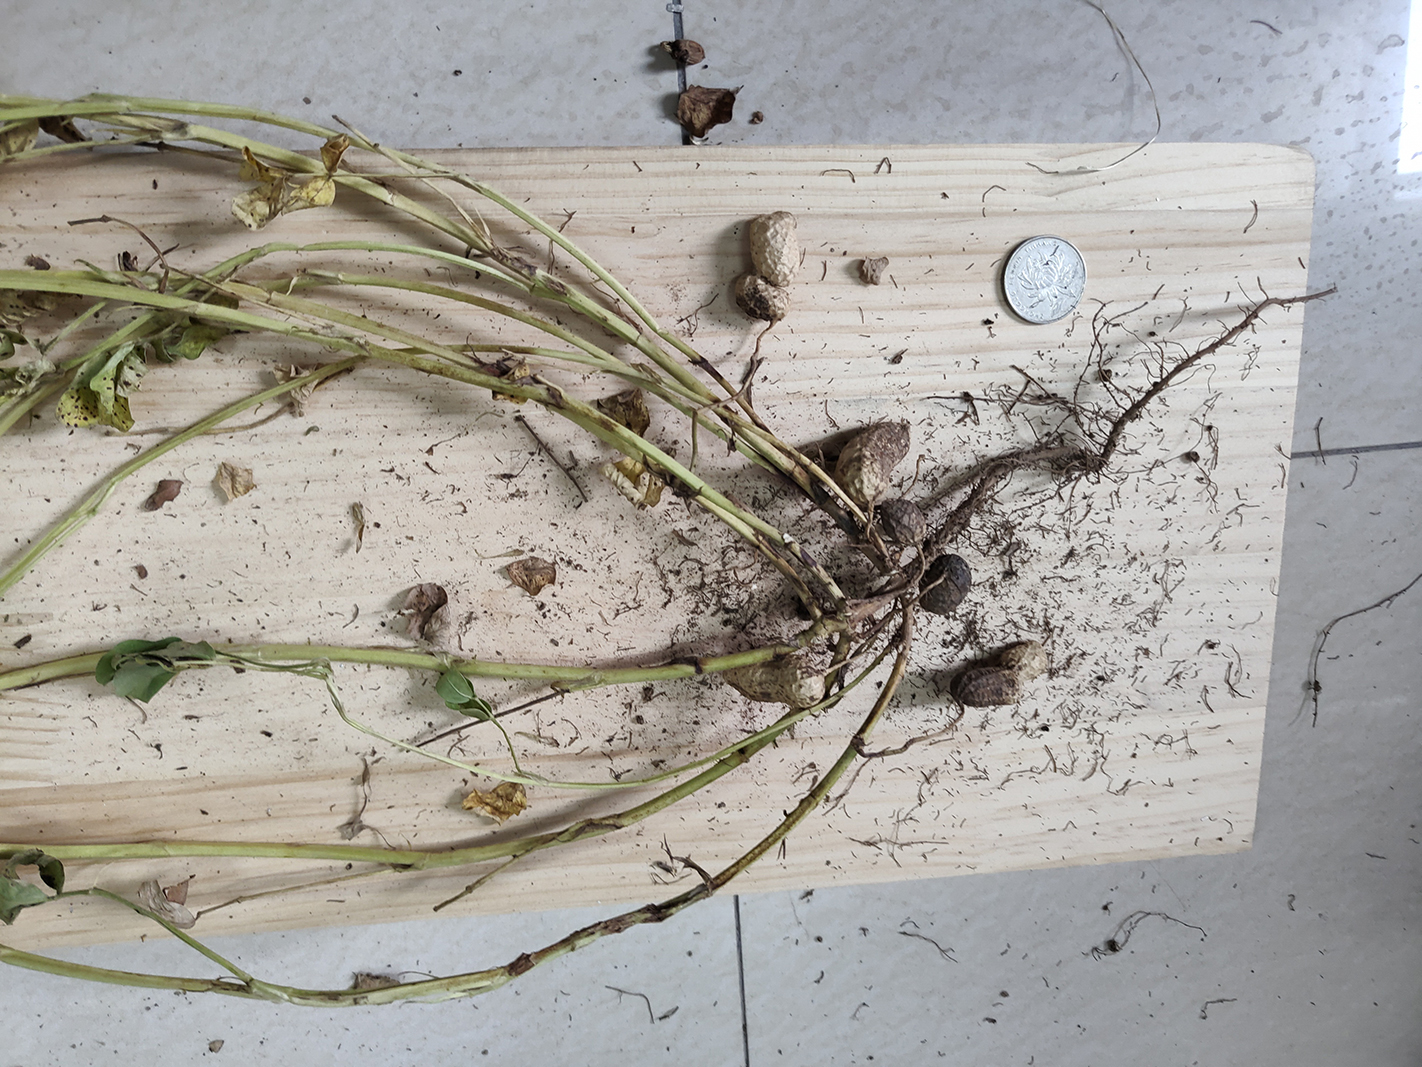h: (736, 210, 798, 322), (723, 664, 824, 707)
l: (951, 646, 1045, 709), (835, 423, 910, 501), (919, 555, 972, 618), (884, 503, 927, 548)
